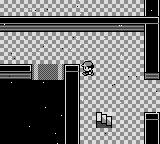main: (81, 62, 94, 75)
no-caminable: (1, 80, 65, 143), (1, 16, 159, 33), (65, 65, 80, 143), (145, 24, 160, 81), (145, 112, 160, 143), (1, 65, 32, 79), (145, 0, 159, 16)
puerta: (32, 64, 64, 80), (96, 112, 112, 127)
